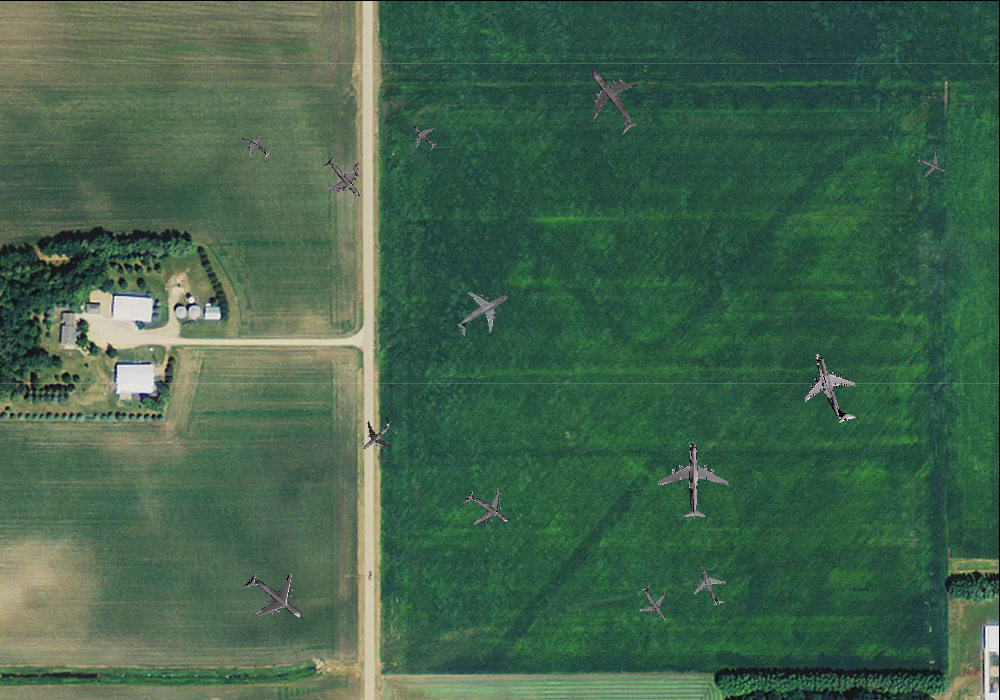plane: (562, 49, 660, 149), (230, 553, 318, 641), (790, 343, 874, 433), (443, 274, 522, 351), (657, 441, 729, 519), (454, 475, 521, 542), (310, 145, 376, 211), (350, 407, 404, 462), (628, 576, 680, 629), (685, 559, 736, 612), (234, 126, 275, 166), (404, 116, 444, 156), (911, 145, 951, 184)
